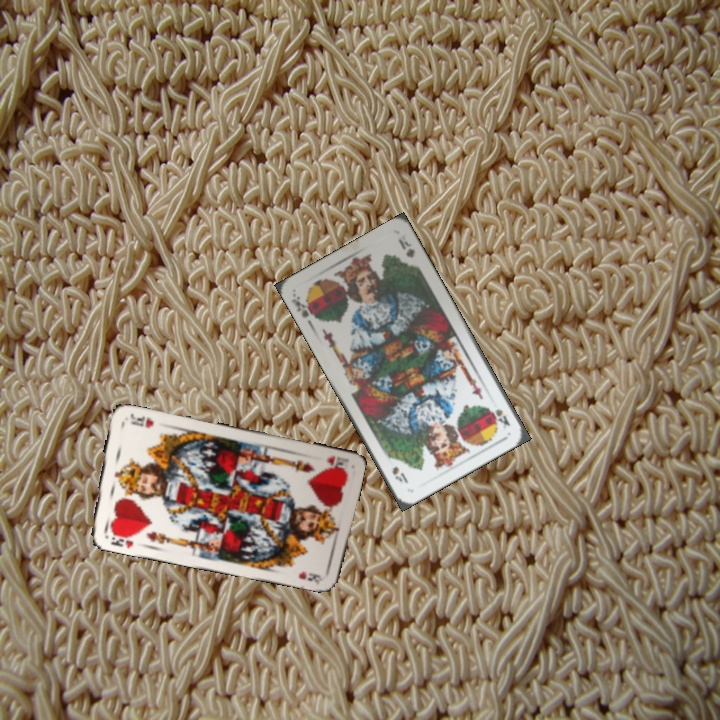HK: (107, 527, 140, 551), (322, 452, 350, 468)
SK: (287, 290, 319, 322), (488, 405, 512, 430)
